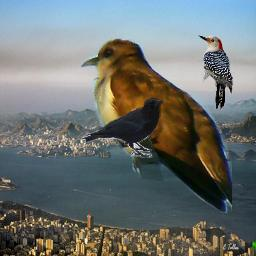Crow: (81, 98, 163, 158)
Cuckoo: (81, 38, 232, 216)
Woodpecker: (198, 35, 233, 110)
